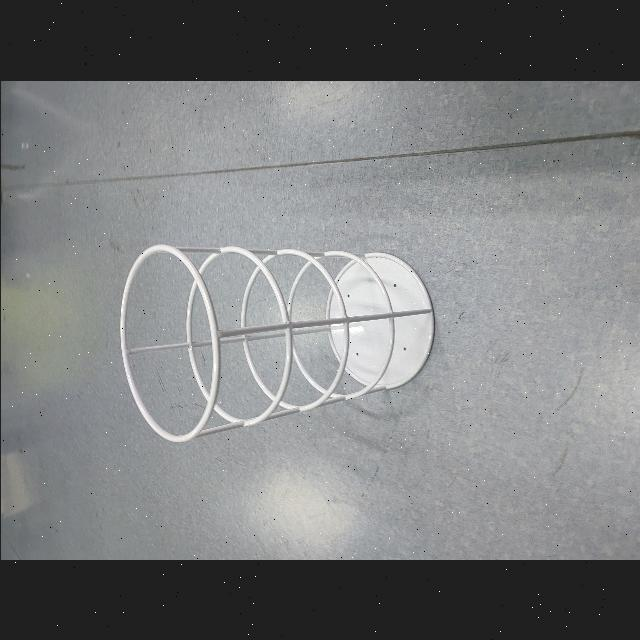S: (114, 239, 436, 447)
